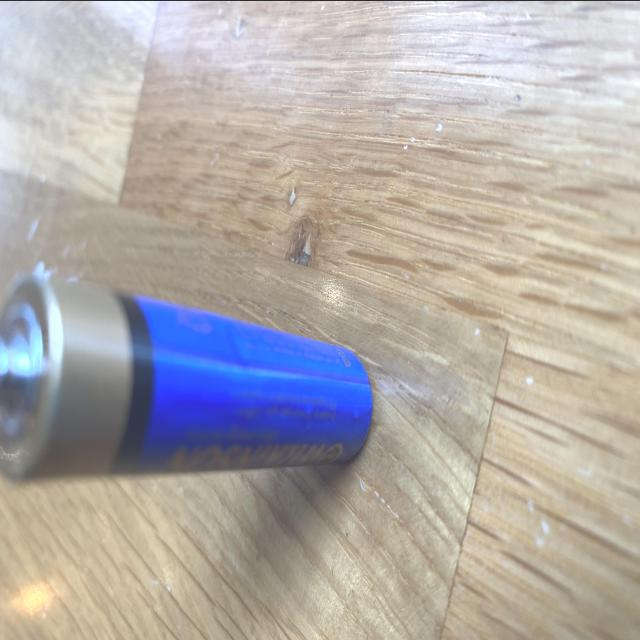AA: (0, 267, 378, 486)
